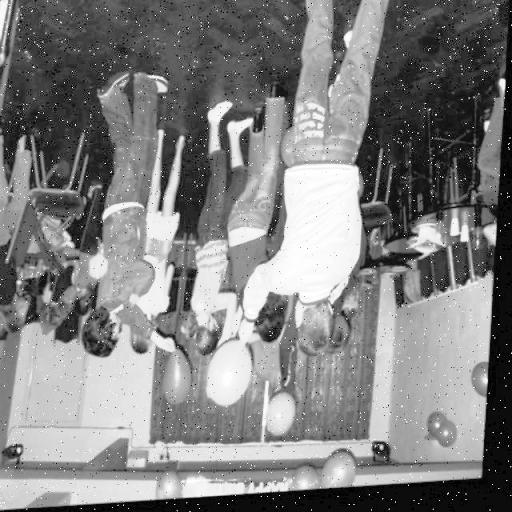balloon: (208, 345, 257, 408), (166, 350, 197, 407), (270, 396, 302, 440), (327, 455, 362, 494), (161, 474, 191, 502), (281, 134, 302, 171), (297, 469, 324, 495), (476, 370, 494, 404), (444, 427, 462, 454), (432, 418, 453, 439)
